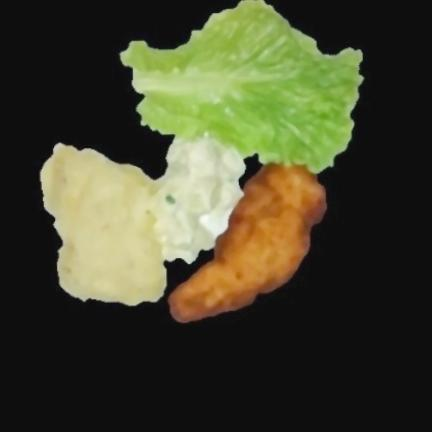chicken: (169, 165, 326, 322)
potato: (42, 144, 166, 304)
salad: (121, 0, 362, 172)
